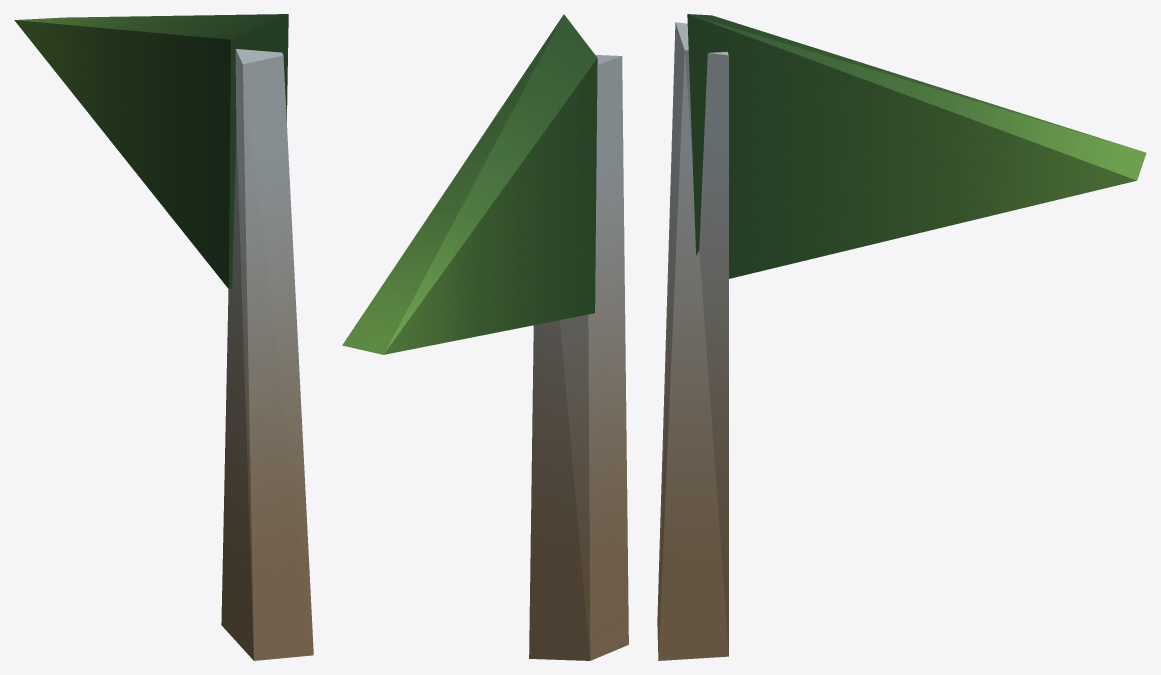
The model's file is greenWaypointlFlag_mdl.FBX.
3 renders of one model, left to right at view 1: azimuth 30°, elevation 25°; view 2: azimuth 150°, elevation 25°; view 3: azimuth 270°, elevation 25°, orthographic.
Visible parts, largest first — view 1: greenWaypointlFlag_mdl; view 2: greenWaypointlFlag_mdl; view 3: greenWaypointlFlag_mdl.
Boxes of the visible parts, left/top/right/bottom form: greenWaypointlFlag_mdl: left=14, top=14, right=313, bottom=660; greenWaypointlFlag_mdl: left=342, top=14, right=628, bottom=660; greenWaypointlFlag_mdl: left=657, top=14, right=1146, bottom=660.
Size of the model in its own units: 1.27 by 11.64 by 8.05.
1 material, 1 textured.
